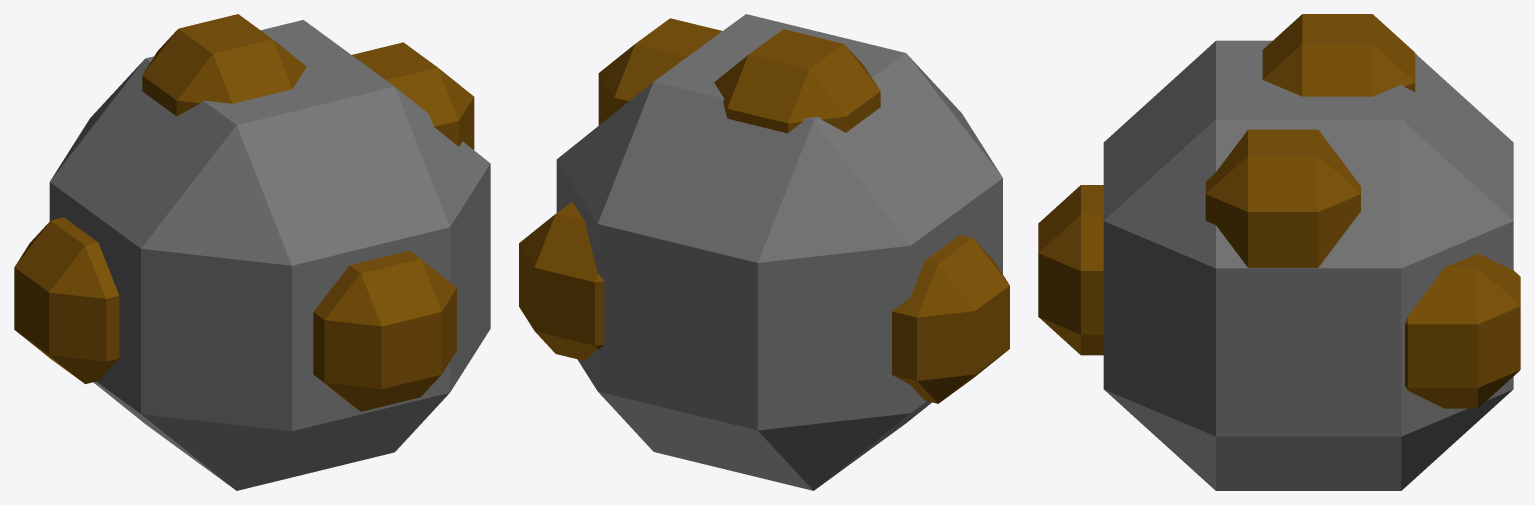
The model's file is RawCooper.fbx.
3 renders of one model, left to right at view 1: azimuth 30°, elevation 25°; view 2: azimuth 150°, elevation 25°; view 3: azimuth 270°, elevation 25°, orthographic.
Visible parts, largest first — view 1: RawCooper; view 2: RawCooper; view 3: RawCooper.
Boxes of the visible parts, box(x1,y1,x2,y2) form: RawCooper: box(14, 14, 490, 490); RawCooper: box(519, 14, 1009, 490); RawCooper: box(1038, 14, 1520, 490).
Bounding box in the file's own units: 60.84 × 62.68 × 58.49.
